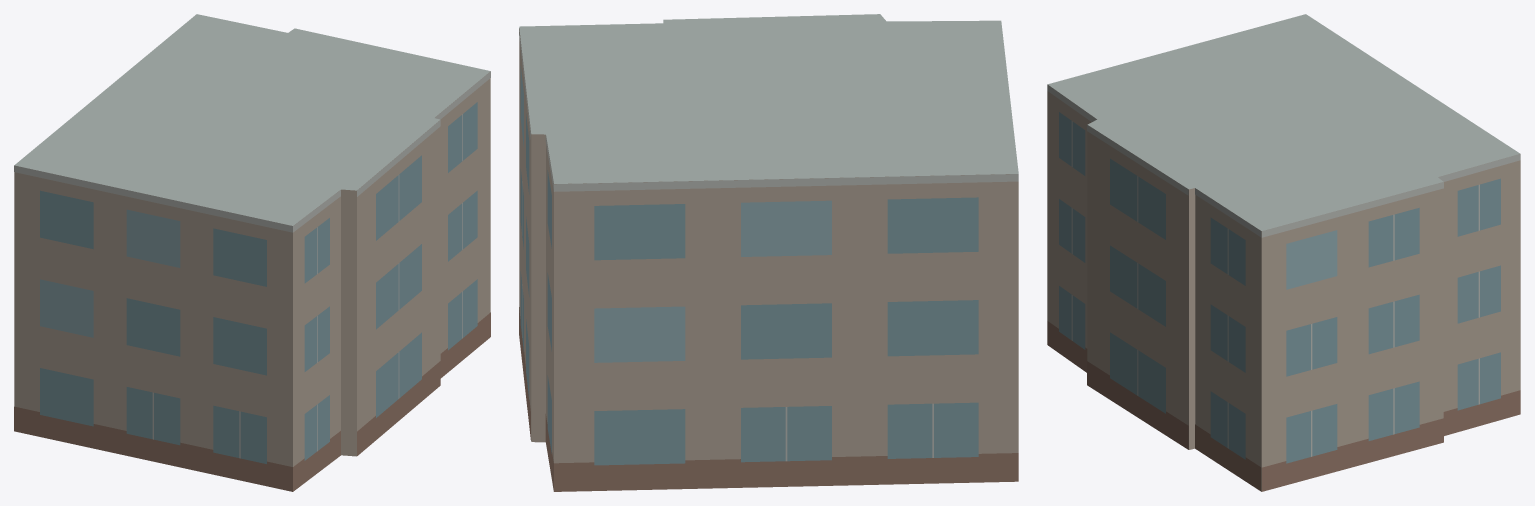
File: survey-upis-32922653.glb
The picture shows the model from 3 angles, left to right: view 1: azimuth 30°, elevation 25°; view 2: azimuth 150°, elevation 25°; view 3: azimuth 270°, elevation 25°; orthographic projection. The views are drawn at different scales.
Parts seen in each view (by area): view 1: survey-upis-32922653.tmp; view 2: survey-upis-32922653.tmp; view 3: survey-upis-32922653.tmp.
Part boxes in pixels (x1,y1,x2,y2): survey-upis-32922653.tmp: (14, 14, 490, 491); survey-upis-32922653.tmp: (519, 14, 1018, 491); survey-upis-32922653.tmp: (1047, 14, 1520, 491).
Bounding box in the file's own units: 17.35 × 9.7 × 15.97.
